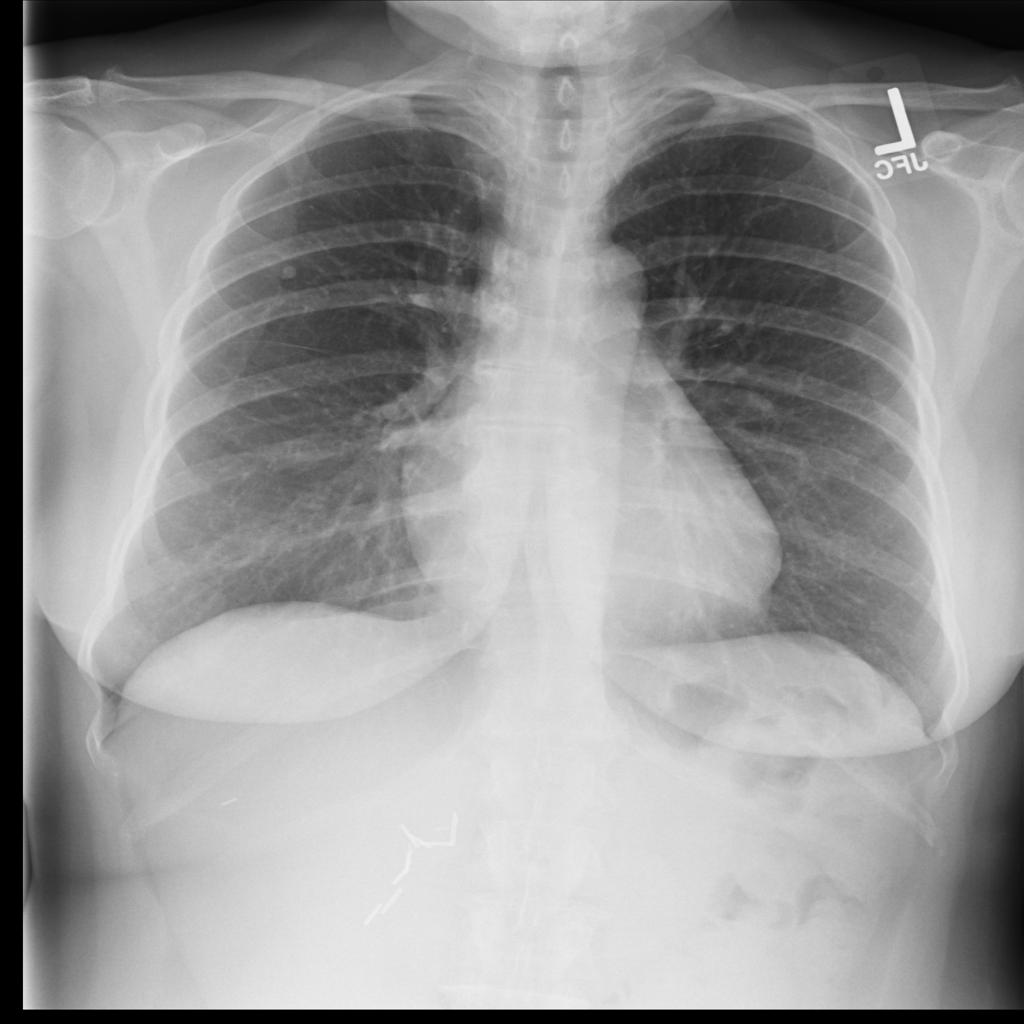nodule: (263, 245, 318, 291)
